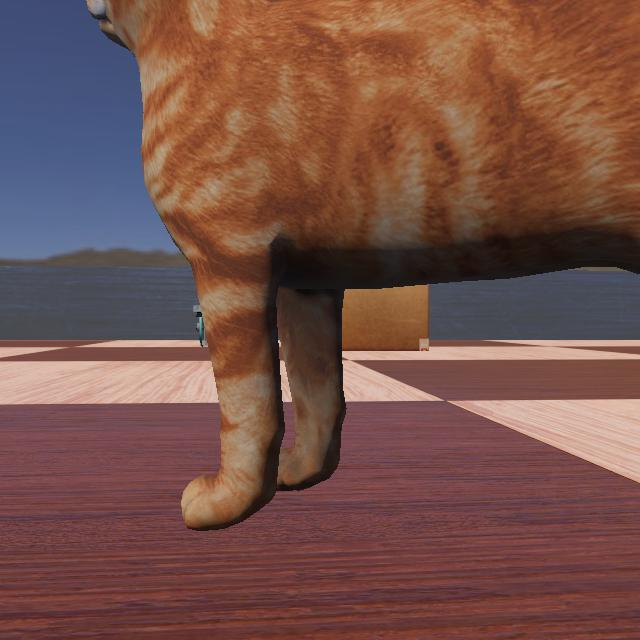cardboard-box: (307, 238, 429, 352)
cat: (1, 1, 640, 640), (1, 1, 640, 640)
